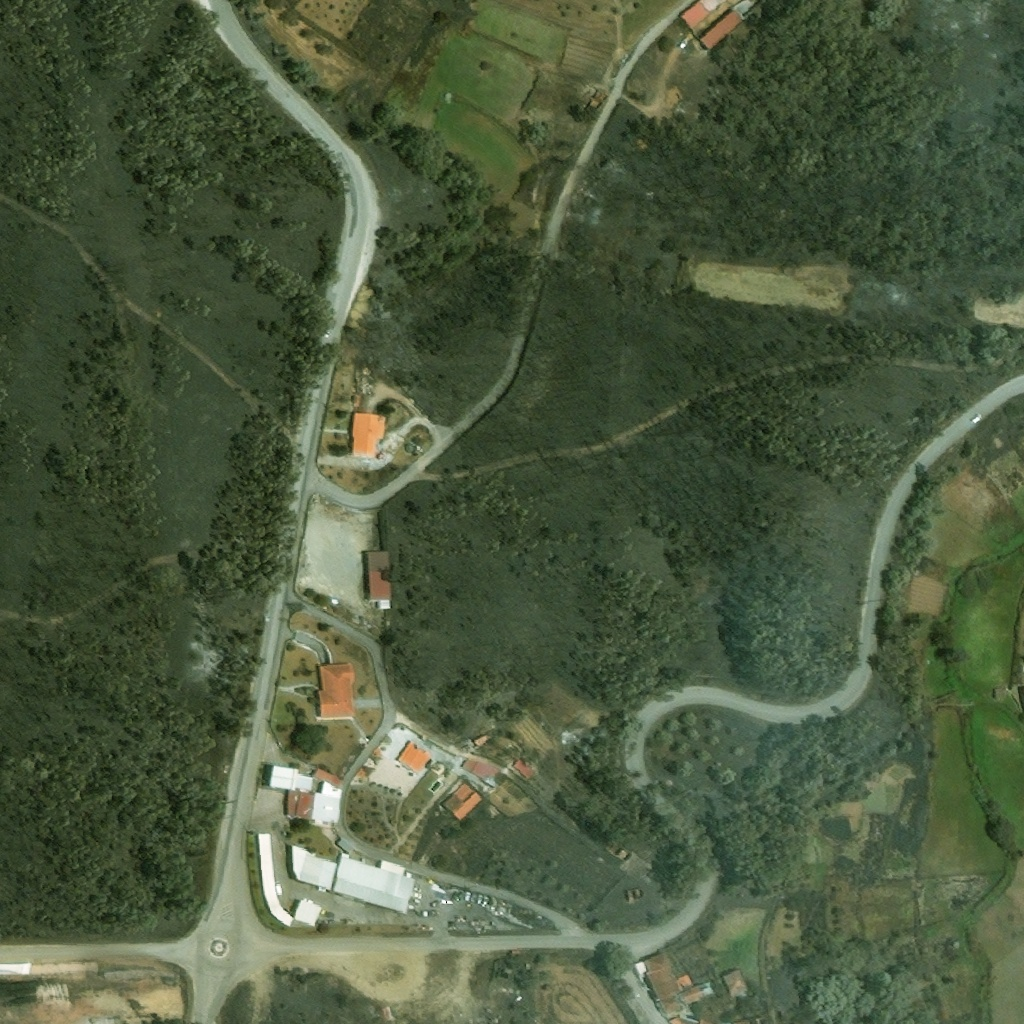0 no-damage: (287, 844, 416, 913), (258, 832, 322, 927), (263, 762, 344, 823), (698, 0, 762, 50), (633, 951, 681, 1002), (318, 663, 356, 716), (397, 733, 437, 776), (350, 412, 385, 458), (441, 780, 481, 820), (680, 0, 727, 31), (362, 550, 391, 599), (463, 758, 508, 789), (677, 978, 717, 1005), (720, 968, 749, 999), (512, 759, 535, 779), (659, 996, 682, 1012), (676, 973, 696, 991)
2 major-damage: (732, 1015, 771, 1023)
3 destroyed: (607, 844, 634, 863), (628, 886, 646, 898)
4 un-classified: (669, 1015, 696, 1023), (699, 1013, 719, 1023)
